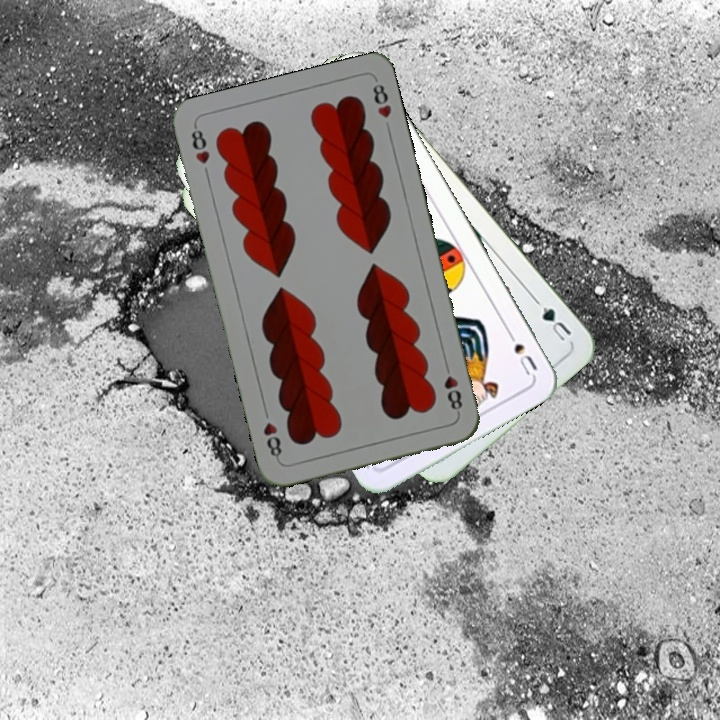GU: (531, 295, 574, 344)
H8: (440, 358, 465, 416), (187, 122, 213, 167)
SU: (501, 324, 540, 378)
